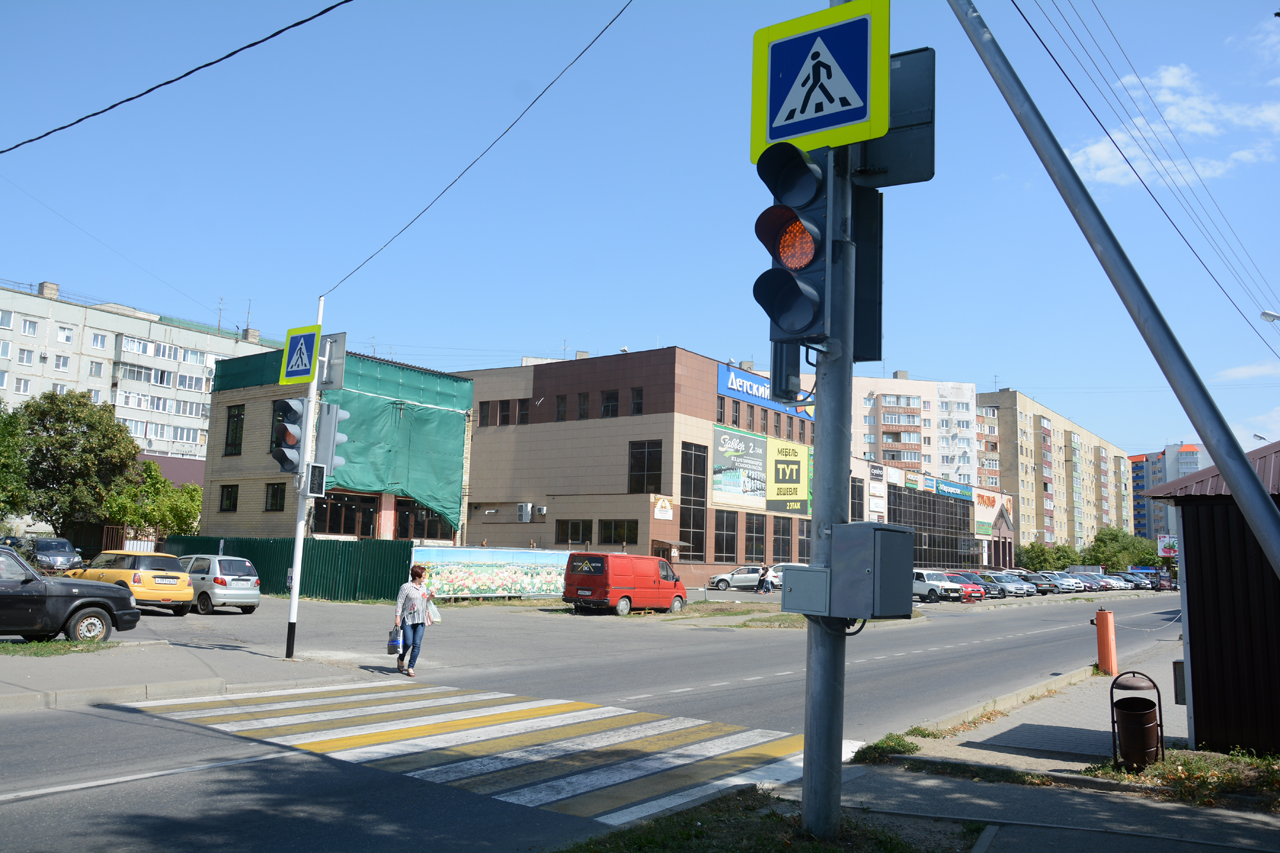tl: (759, 141, 849, 348), (274, 394, 309, 476)
